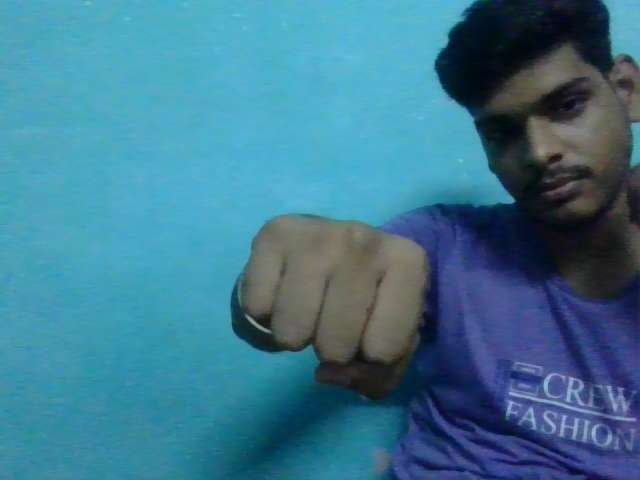yes: (222, 210, 441, 403)
